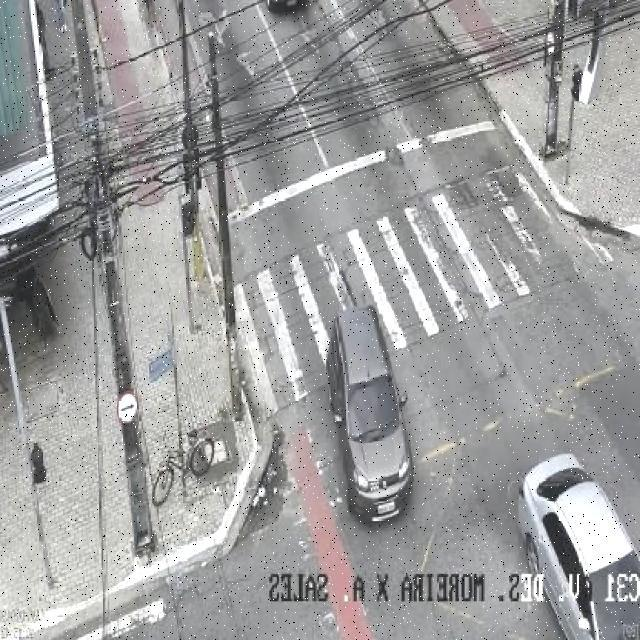Car: (507, 441, 629, 640), (324, 302, 414, 534)
Cycle: (144, 423, 230, 508)
